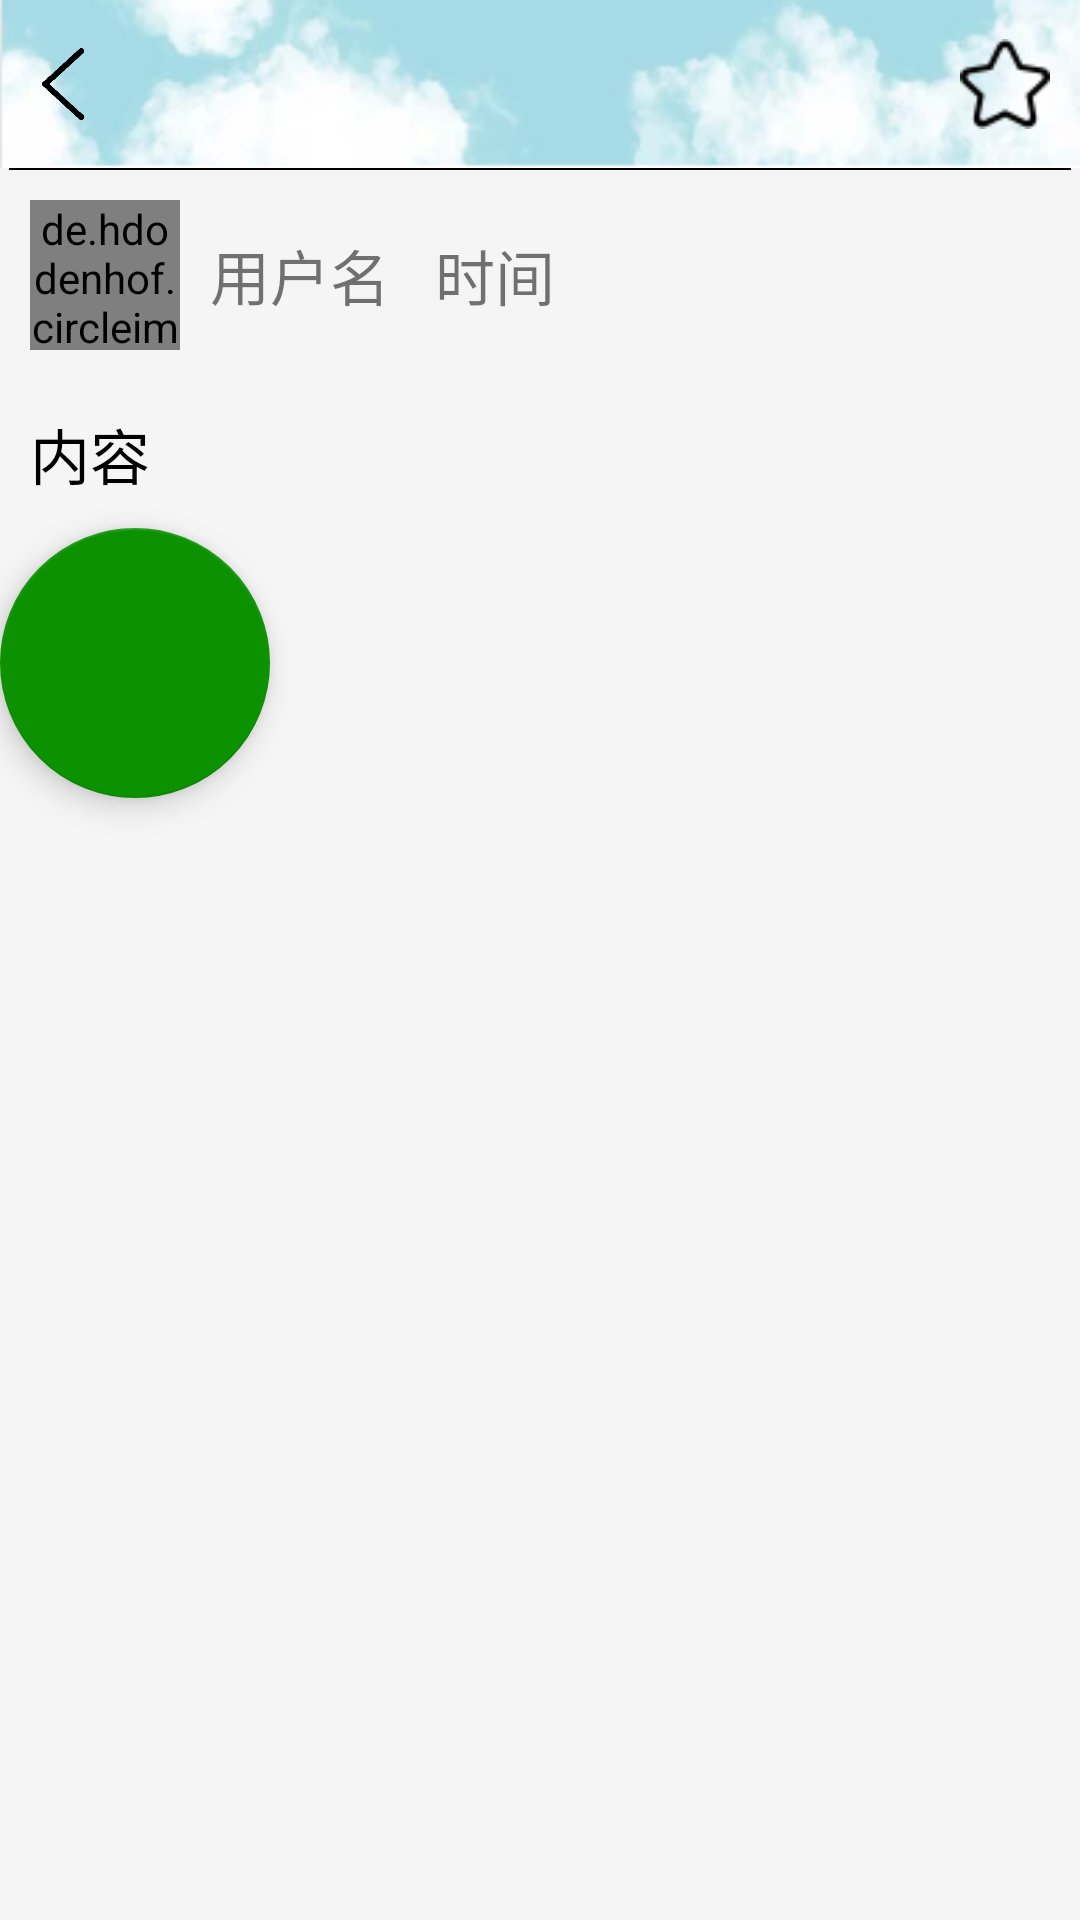

Icon click points for this 1080 × 1920 phone screenshot, format point (x, y):
collect: point (1005, 84)
return: point (63, 84)
